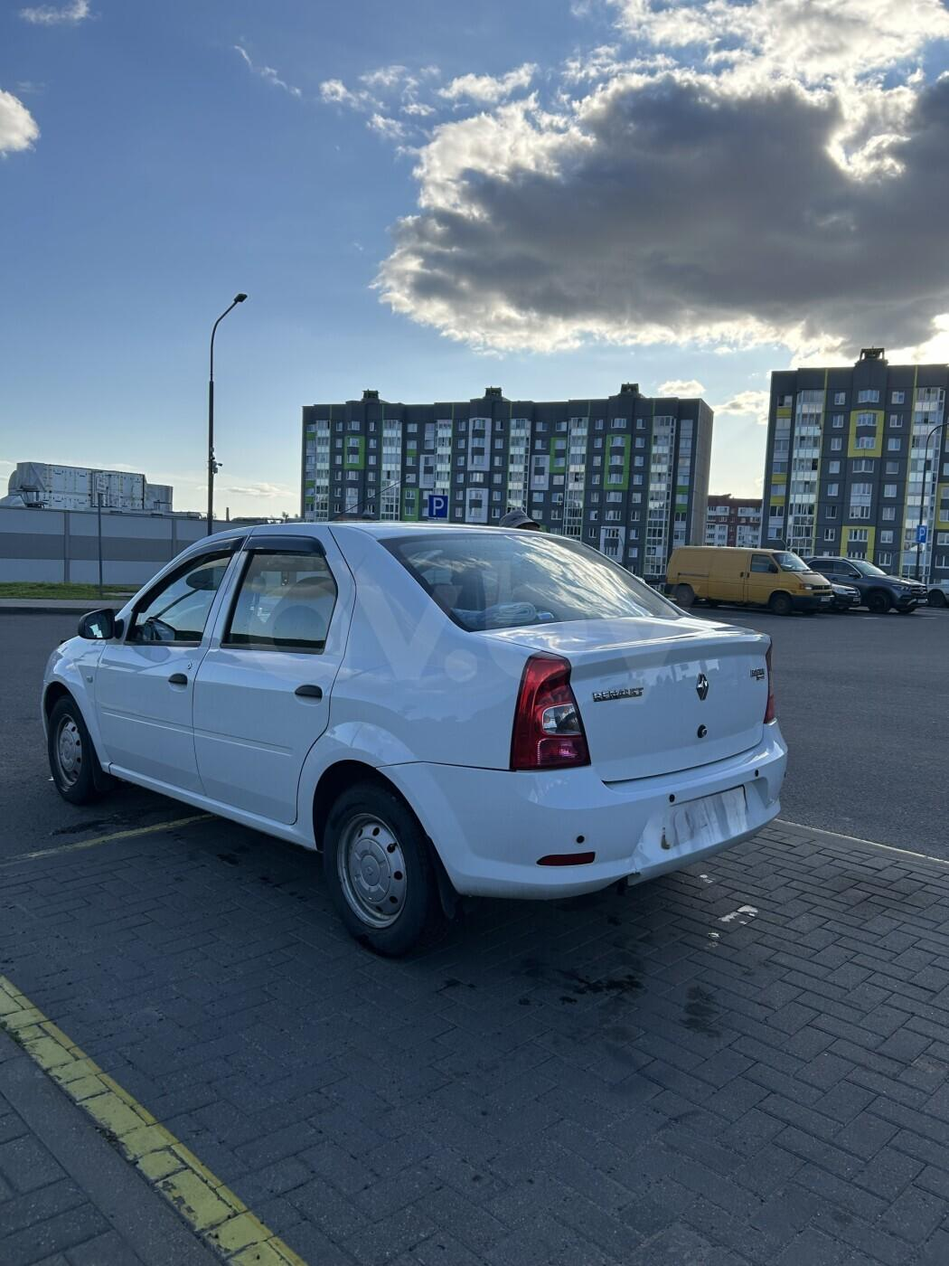Logan_2008-2015: (42, 512, 795, 960)
